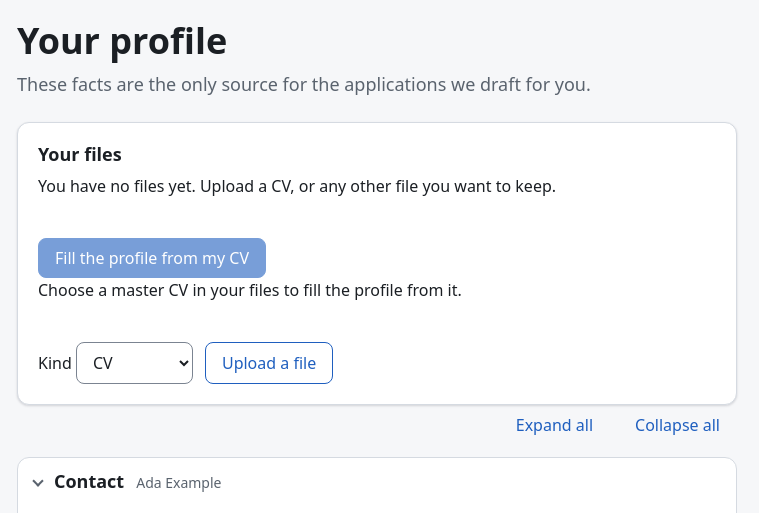
Test: collapsible profile sections › collapses and expands all sections
This screenshot has width=759, height=513.
Click the button "Collapse all" at (678, 424), box 618,404 -> 737,444
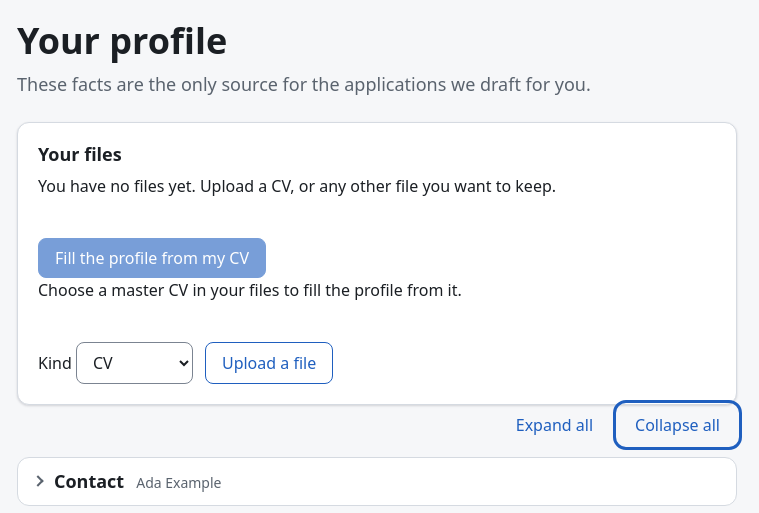
Click the button "Expand all" at (554, 424), box 499,404 -> 610,444
(page scrolled)
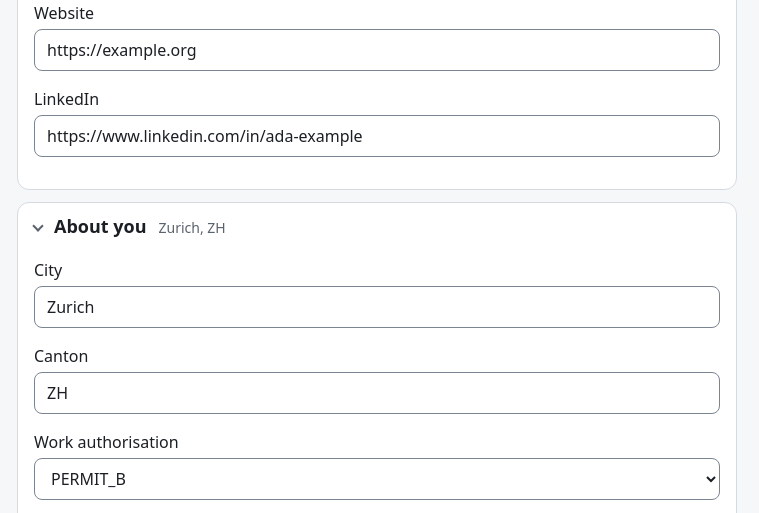
Expected: the field labelled "City" is shown, 34,286 -> 720,328
